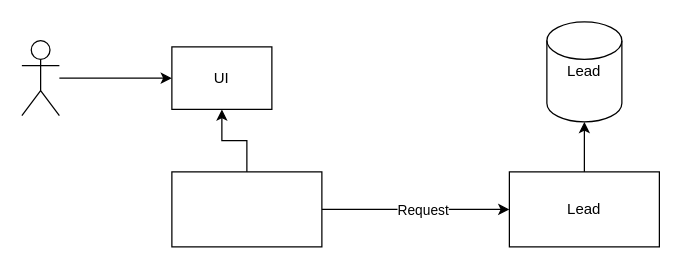
Some shapes in this 681 by 269 pixel diagram are drawn without their labels. The box of each missing label's shape, as (x1, y1, x2, y2) in pixels:
Actor: (21, 39, 59, 116)
BFF: (171, 171, 322, 247)
